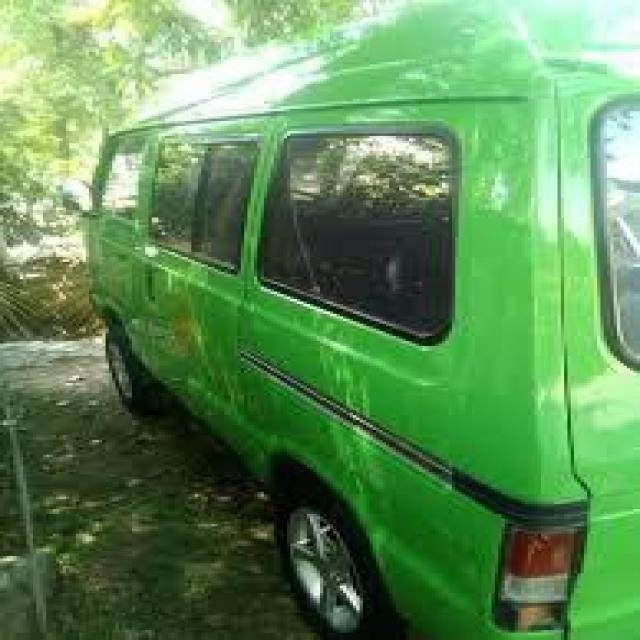Van: (79, 0, 640, 640)
